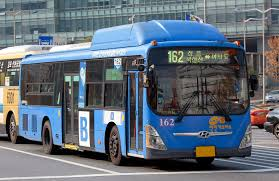bnum: (166, 49, 185, 64)
